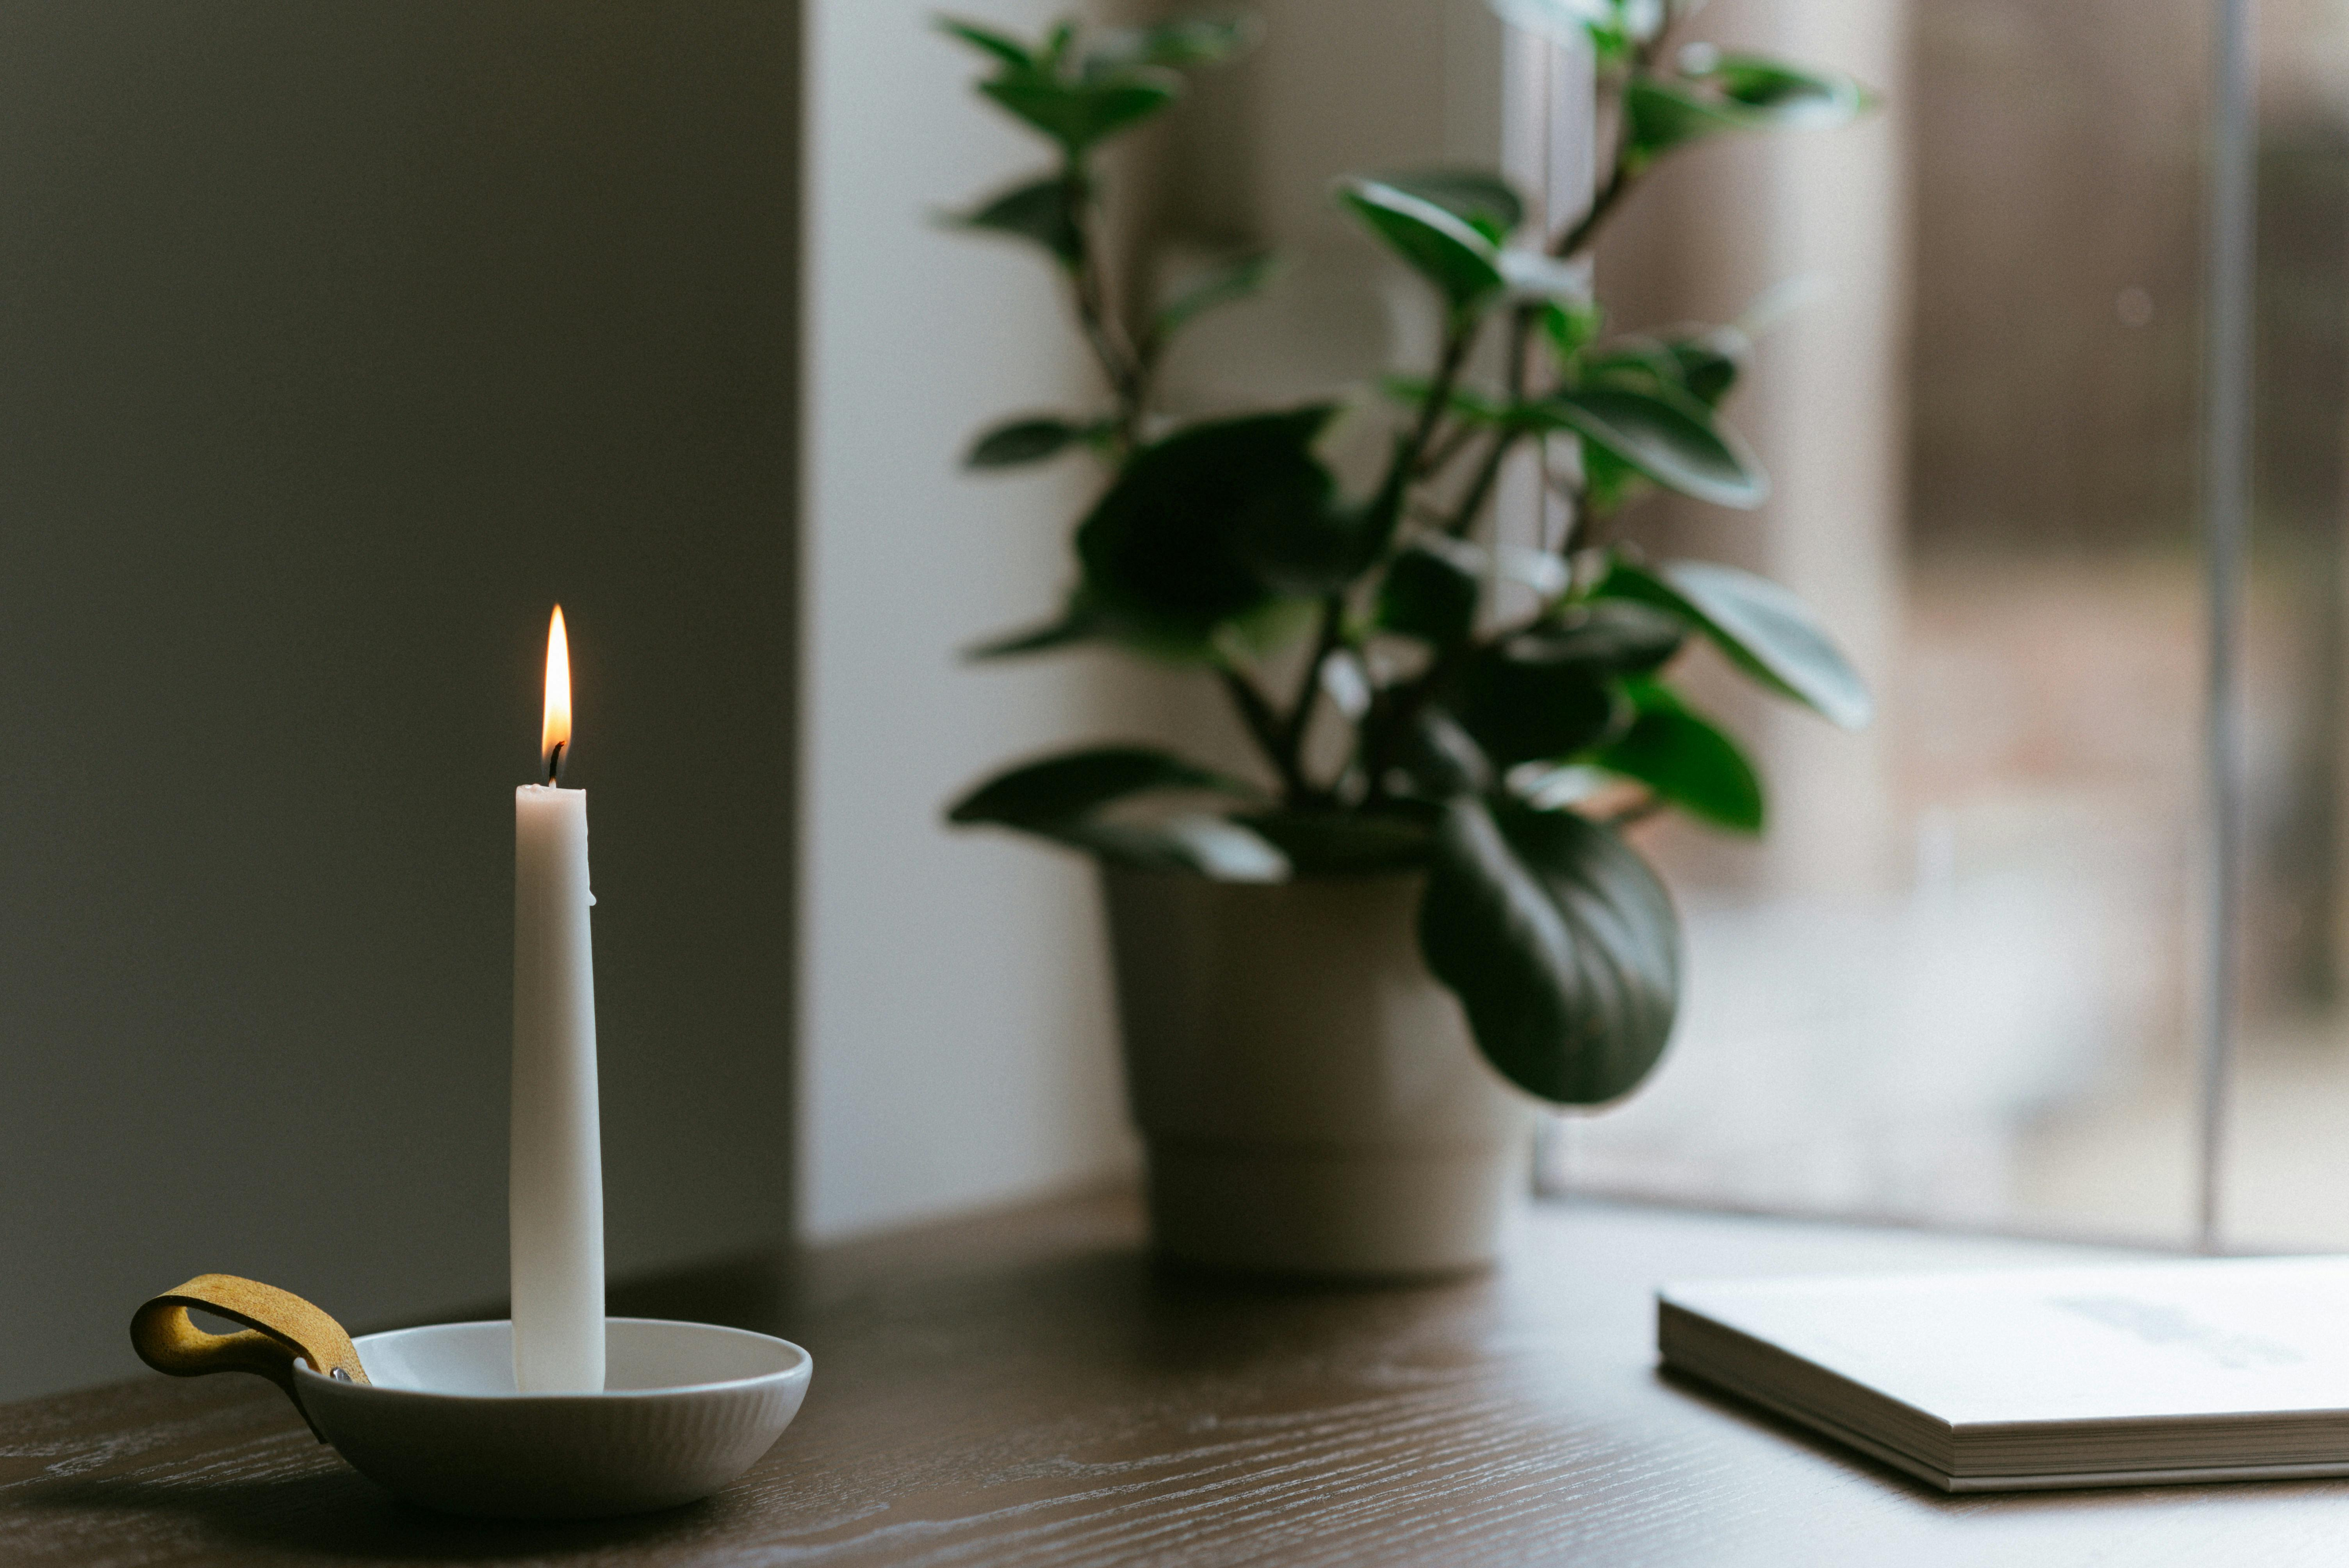Fire: (516, 595, 599, 780)
